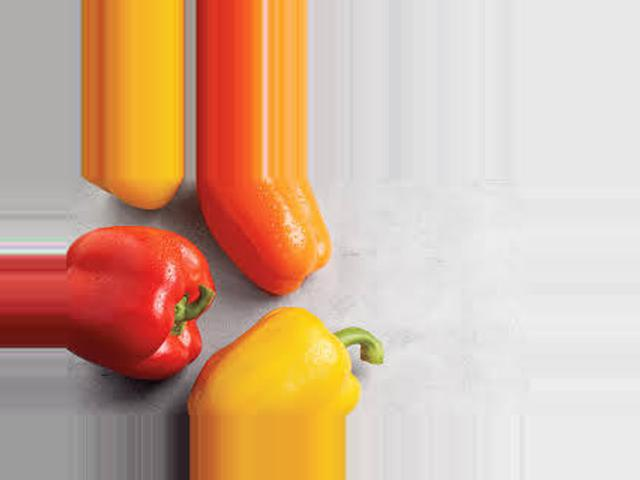bell_pepper: (66, 222, 214, 385)
